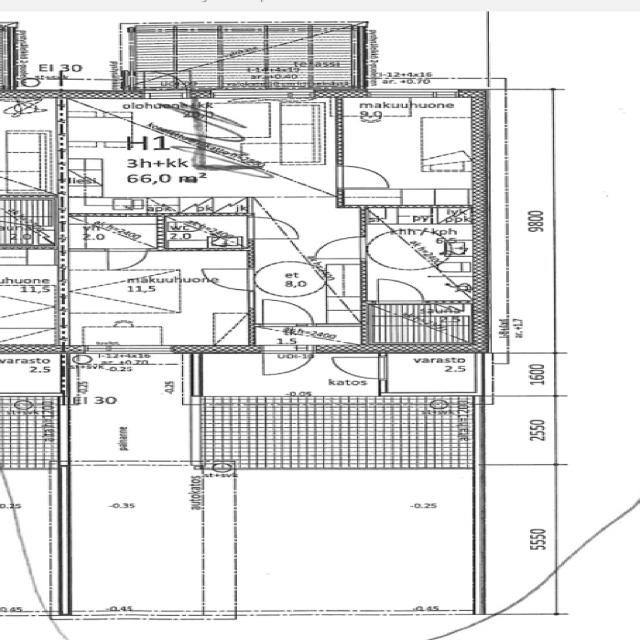door: (321, 351, 388, 383), (257, 347, 316, 378), (332, 163, 394, 190), (259, 299, 315, 326), (240, 216, 294, 242), (312, 233, 363, 260), (372, 277, 424, 303), (98, 246, 148, 272)
window: (104, 606, 204, 626), (181, 398, 204, 452), (336, 606, 418, 620), (90, 343, 178, 356)
zone: (228, 466, 486, 616), (60, 466, 227, 618), (198, 396, 476, 471), (60, 250, 248, 350), (332, 92, 487, 210), (64, 350, 196, 464), (55, 143, 242, 214), (362, 204, 486, 304), (196, 92, 336, 168), (7, 16, 128, 93), (251, 262, 352, 332), (0, 104, 54, 196), (0, 392, 61, 468), (381, 352, 482, 395), (65, 212, 158, 252), (160, 214, 248, 250), (0, 286, 56, 342), (0, 196, 56, 246), (0, 245, 61, 290)
